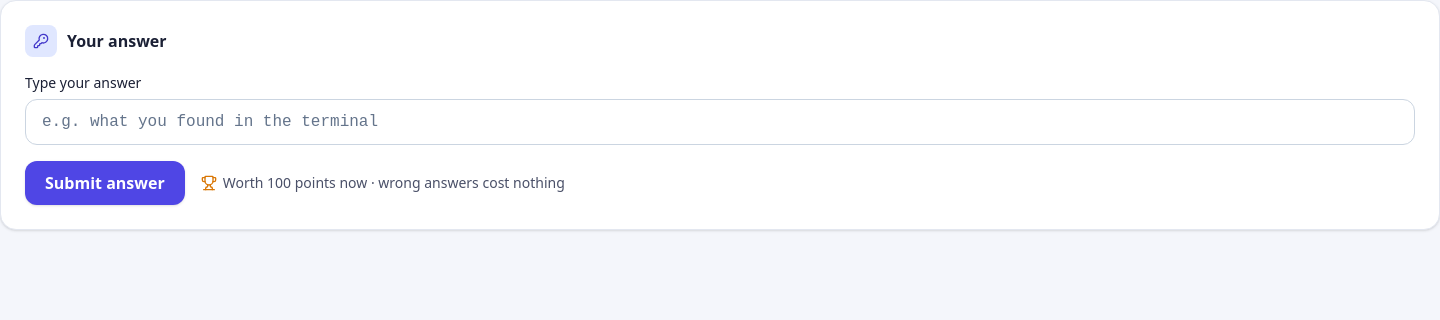
AnswerPanel › passes the completed challenge up after a correct answer
Type "Pa55-Lab-Only" into the field labelled "Type your answer". click: (720, 122)
box: [25, 99, 1415, 145]
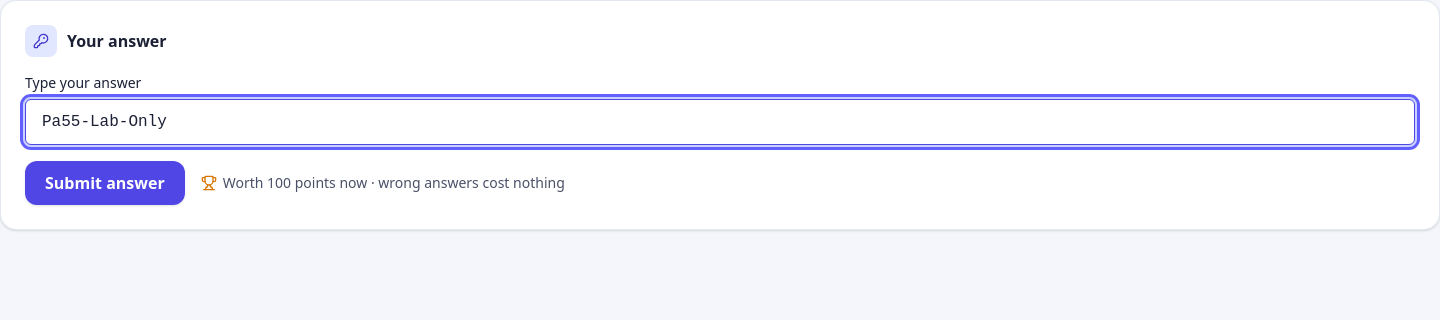
Click the button "Submit answer". click: (105, 183)
box: [25, 161, 185, 205]
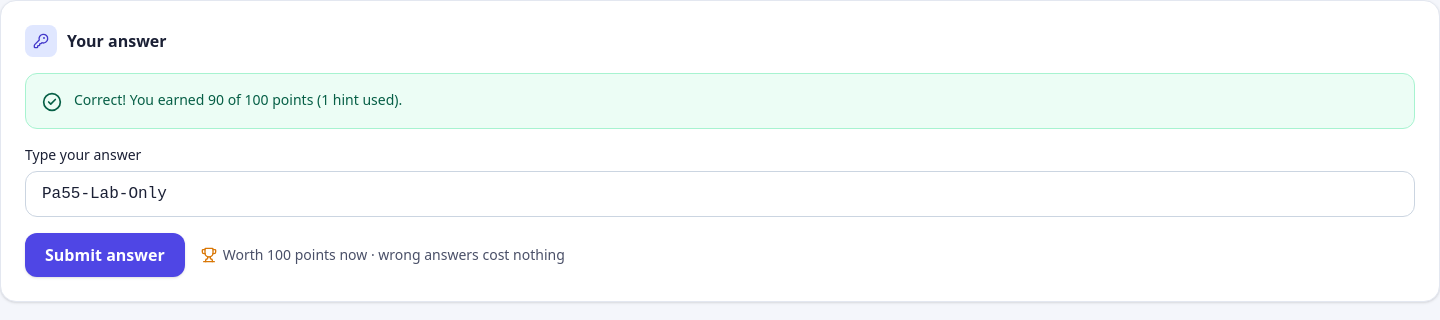
Result: the text "Correct! You earned 90 of 100 points (1 hint used)." is shown at [74, 90, 402, 110]
